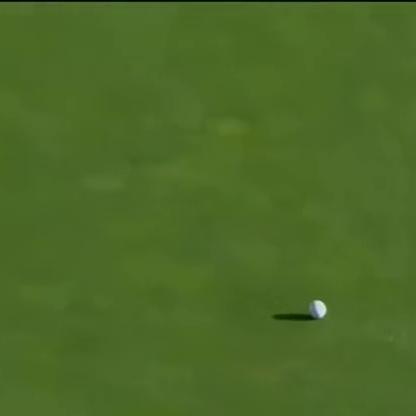golfball: (305, 297, 324, 319)
